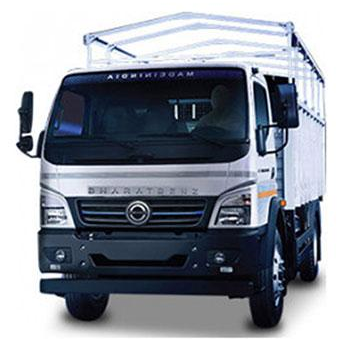truck: (16, 11, 329, 340)
